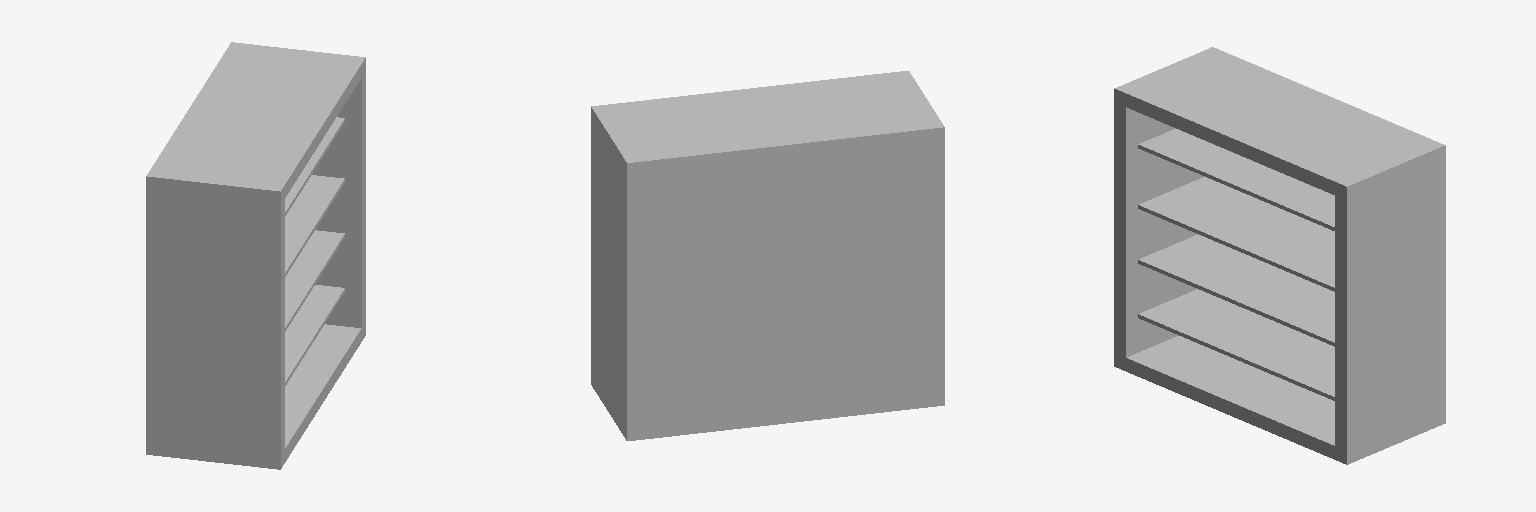
Rendered from Pantry.obj.
The picture shows the model from 3 angles: view 1: azimuth 30°, elevation 25°; view 2: azimuth 150°, elevation 25°; view 3: azimuth 270°, elevation 25°; orthographic projection.
Visible parts, largest first — view 1: Pantry; view 2: Pantry; view 3: Pantry.
Part boxes in pixels (bbox=[...]): Pantry: bbox=[146, 42, 365, 469]; Pantry: bbox=[591, 71, 944, 440]; Pantry: bbox=[1114, 47, 1445, 464].
Size of the model in its own units: 0.7547 by 0.7 by 0.7547.